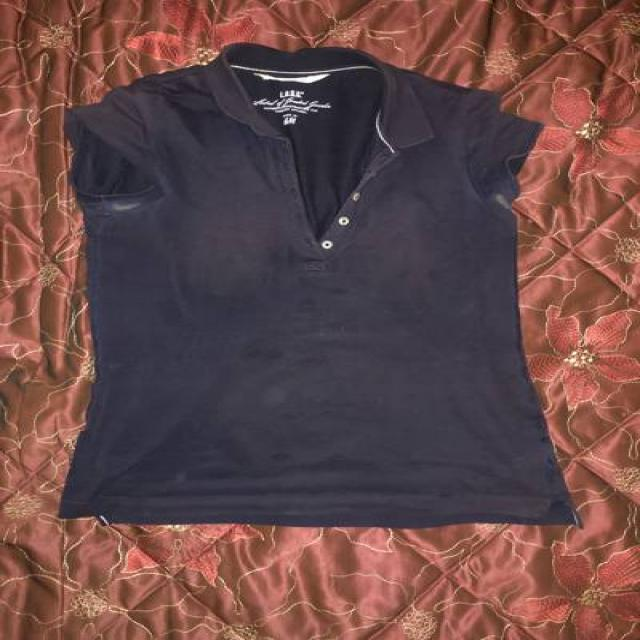Clothes -Biodegradable-: (57, 41, 584, 527)
